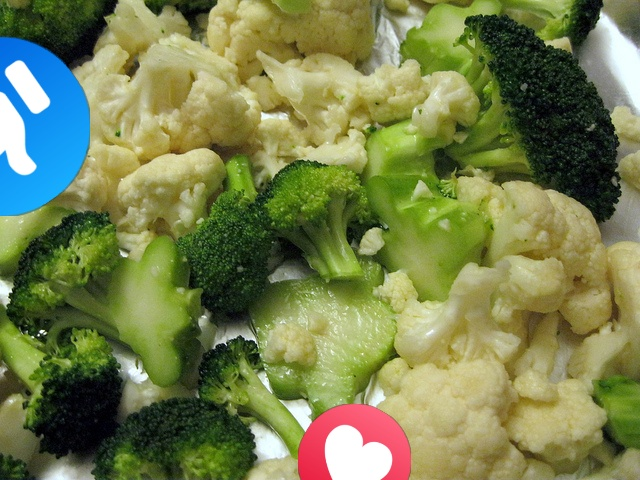like: (0, 37, 90, 216)
love: (298, 404, 411, 480)
